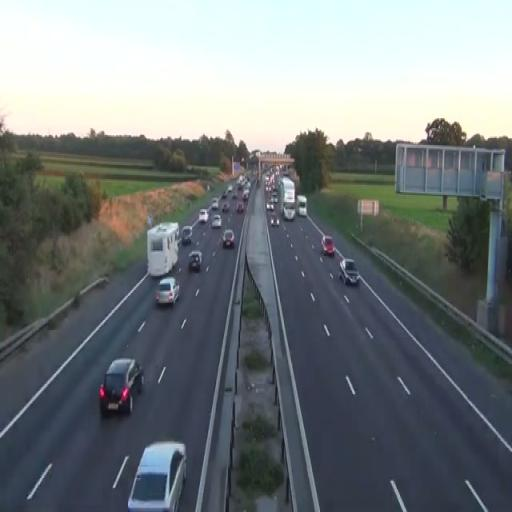Car: (127, 440, 187, 511), (99, 358, 144, 417), (154, 277, 180, 306), (338, 258, 360, 285), (188, 251, 202, 272), (321, 235, 335, 256), (222, 228, 235, 248), (180, 226, 192, 246), (210, 213, 222, 229), (199, 208, 208, 222)
Truck: (146, 221, 180, 278), (278, 176, 296, 220)
